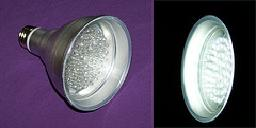LED: (15, 15, 133, 114), (178, 14, 236, 126)
